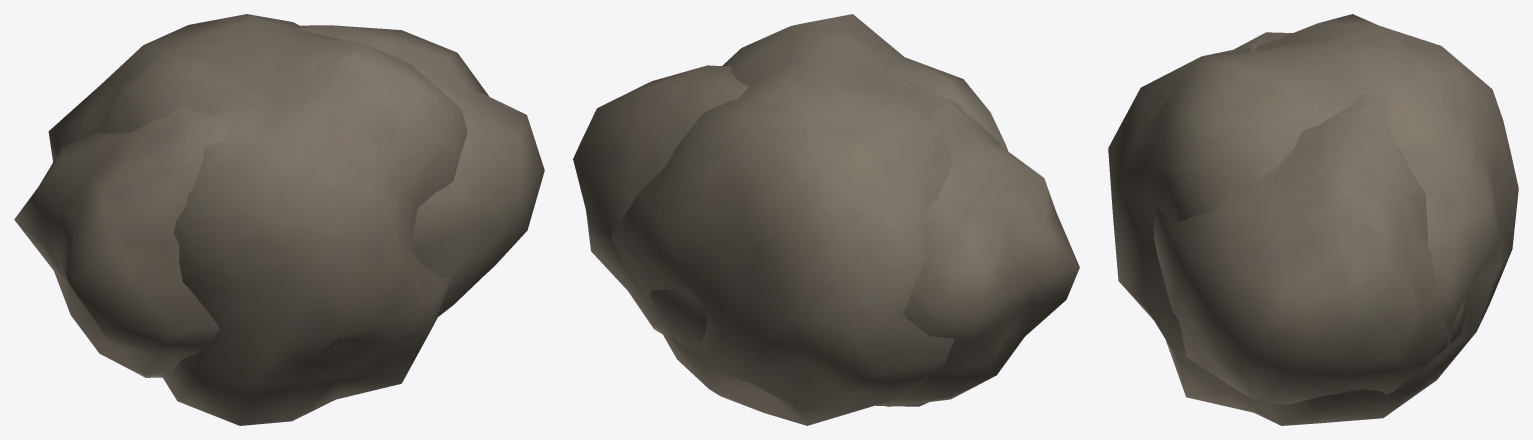
Rendered from asteroid.glb.
3 views of the same model, side by side, from view 1: azimuth 30°, elevation 25°; view 2: azimuth 150°, elevation 25°; view 3: azimuth 270°, elevation 25° (orthographic). The views are drawn at different scales.
Visible parts, largest first — view 1: AsteroidA, AsteroidB; view 2: AsteroidA, AsteroidB; view 3: AsteroidA, AsteroidB.
Part boxes in pixels (x1,y1,x2,y2): AsteroidA: (48, 14, 467, 425); AsteroidB: (14, 25, 544, 377); AsteroidA: (611, 14, 1007, 425); AsteroidB: (573, 65, 1079, 406); AsteroidA: (1108, 14, 1518, 425); AsteroidB: (1153, 32, 1469, 404).
Size of the model in its own units: 2.77 by 1.98 by 2.03.
2 materials, 2 textured.
